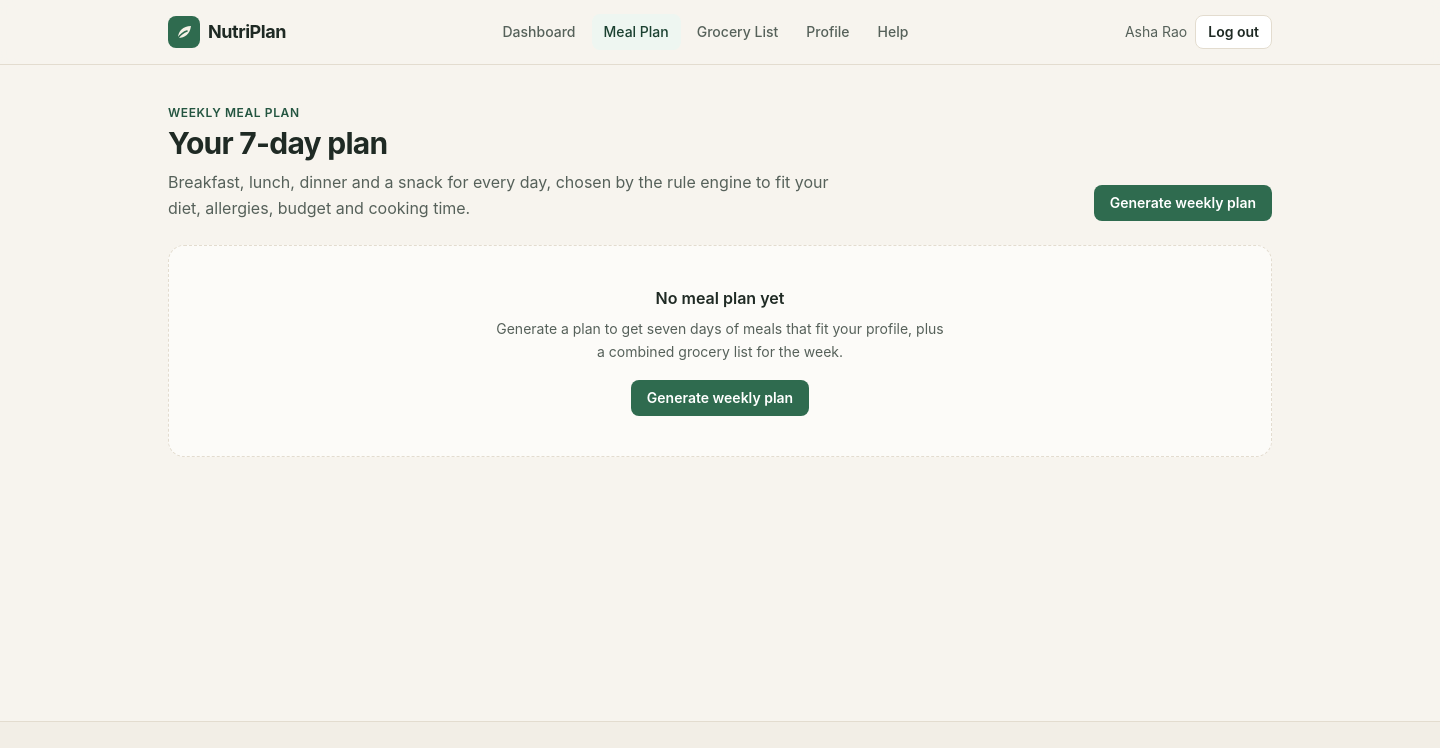
Test: Weekly meal plan (UC-06, UC-07) › shows the empty state and generates a plan
Expected: the text "No meal plan yet" is shown, [656,286,784,310]
Click the 1st button "Generate weekly plan": (1183, 203) [1094,185,1272,221]
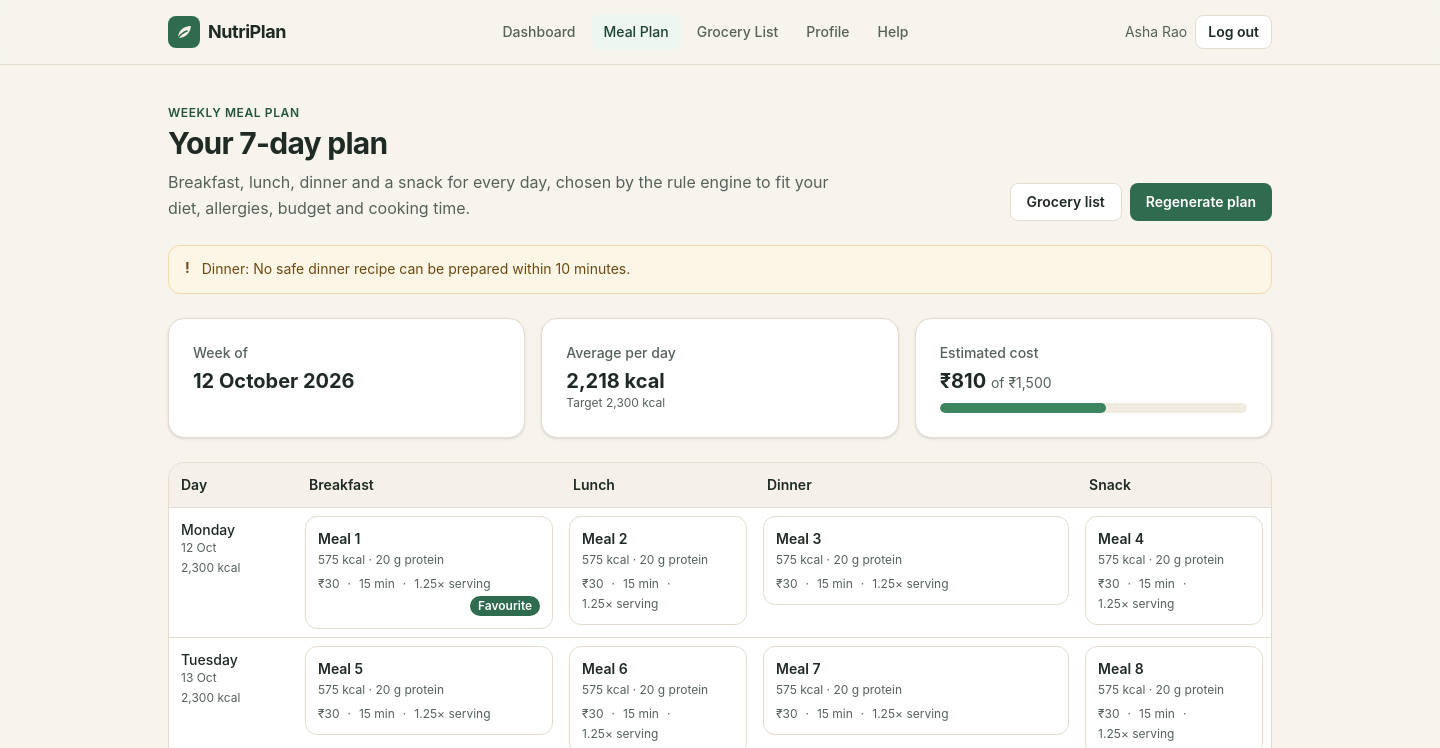
Expected: the text "Meal 1" is shown, [318,530,360,547]
